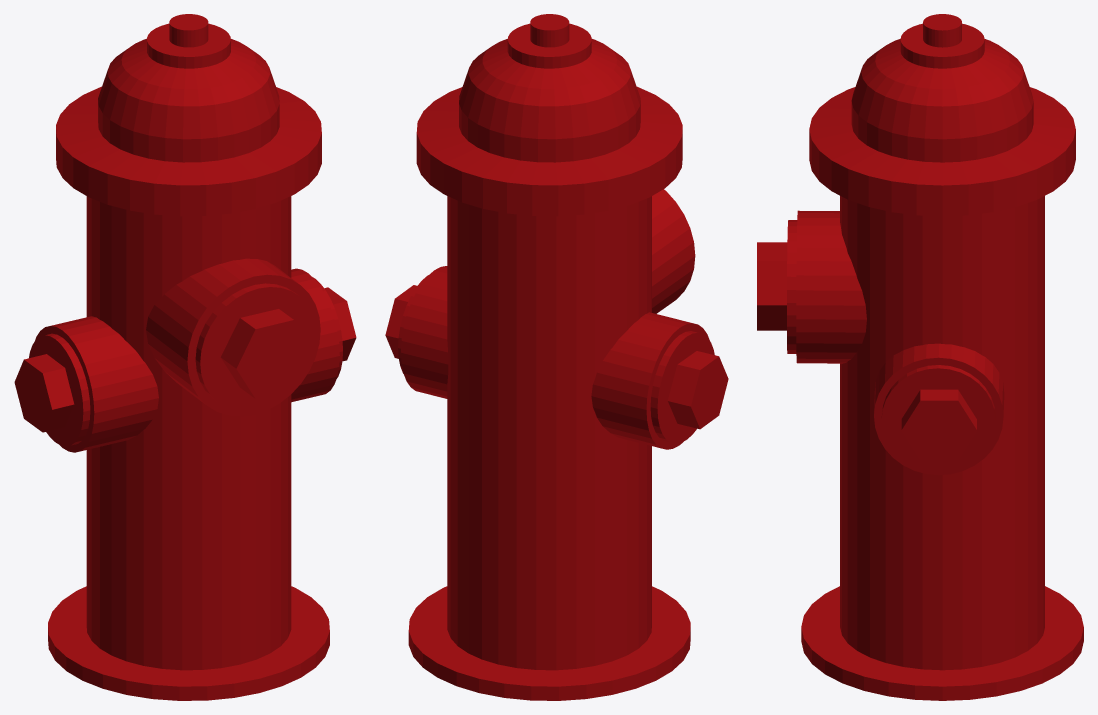
File: FireHydrantUnbroken.fbx
The picture shows the model from 3 angles, left to right: view 1: azimuth 30°, elevation 25°; view 2: azimuth 150°, elevation 25°; view 3: azimuth 270°, elevation 25°; orthographic projection.
Parts seen in each view (by area): view 1: Cylinder; view 2: Cylinder; view 3: Cylinder.
Part boxes in pixels (box(x1,y1,x2,y2)): Cylinder: box(14, 14, 356, 700); Cylinder: box(385, 14, 728, 700); Cylinder: box(757, 14, 1083, 700).
Bounding box in the file's own units: 249 × 483 × 231.
